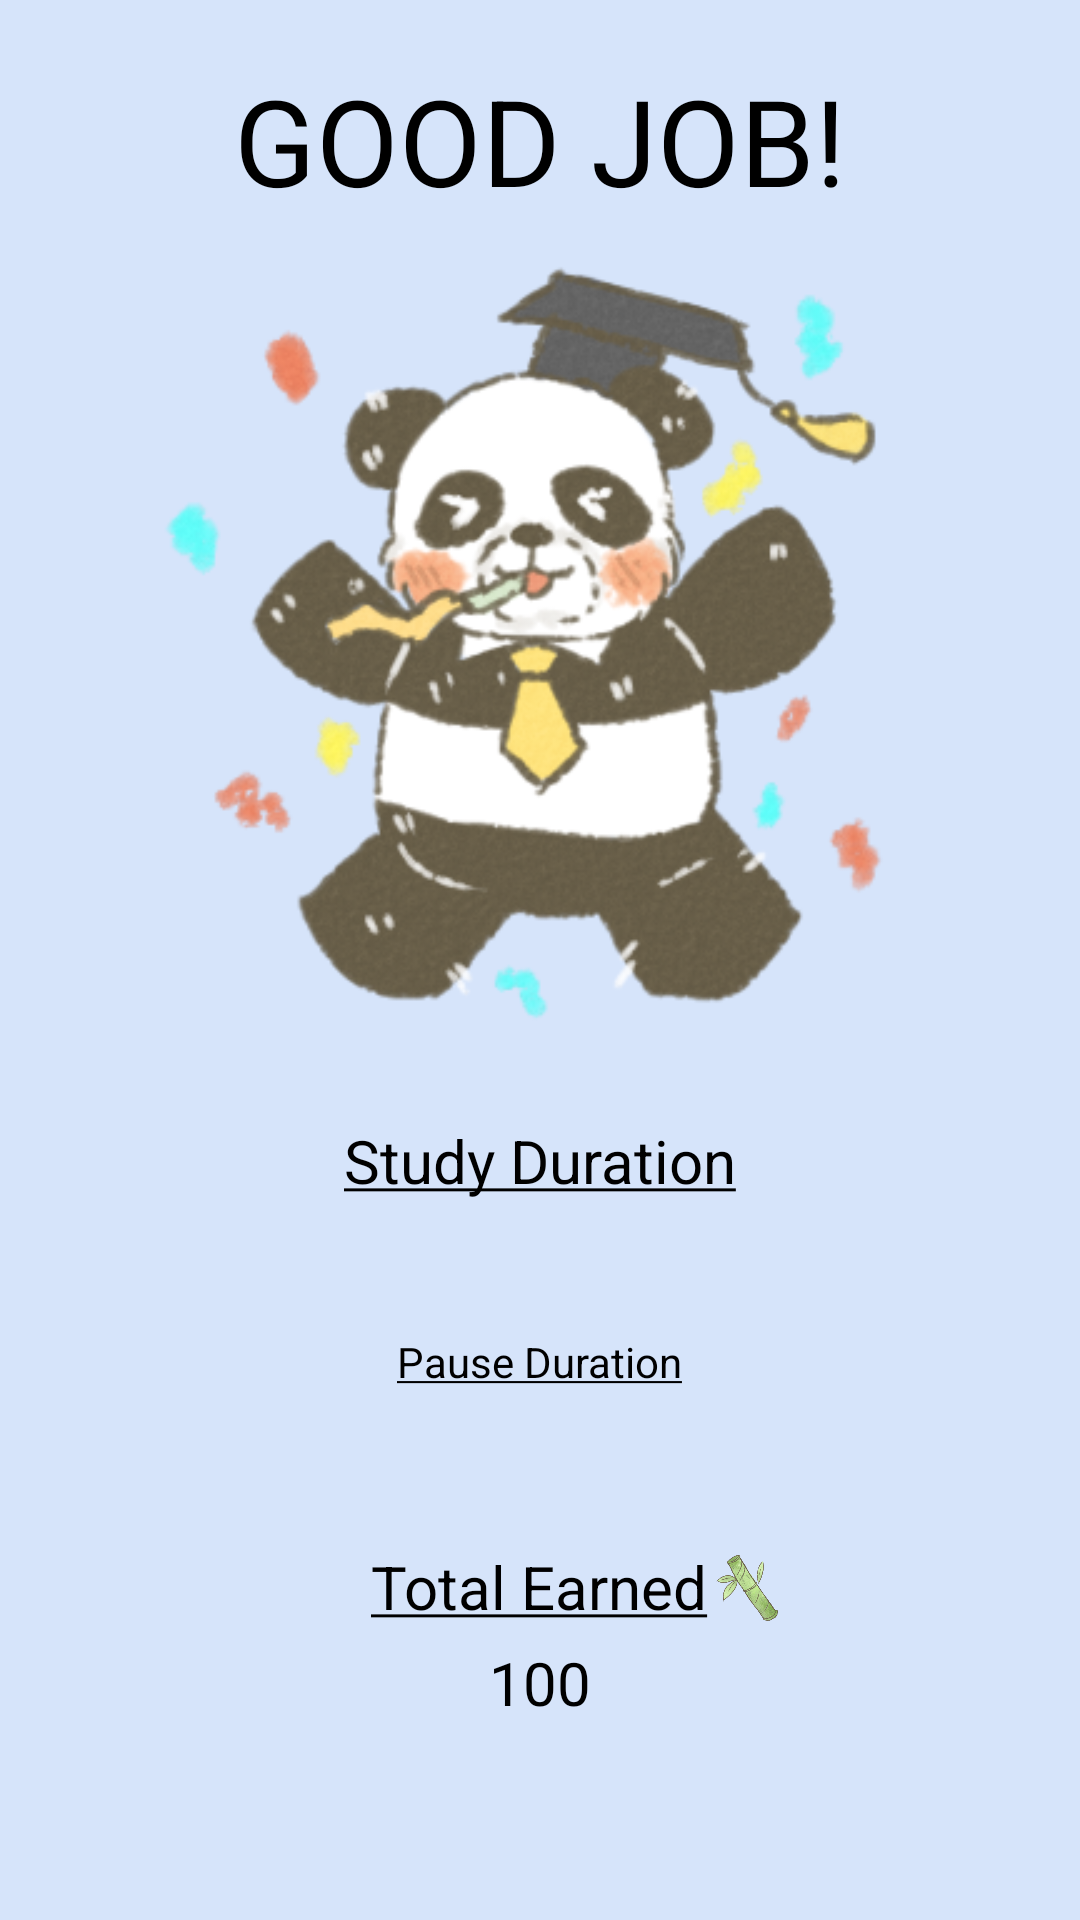

Icon bounding boxes for this 1080×1920 phone screenshot, format (x1, y1, x2, y2):
bamboo icon: (717, 1555, 778, 1621)
